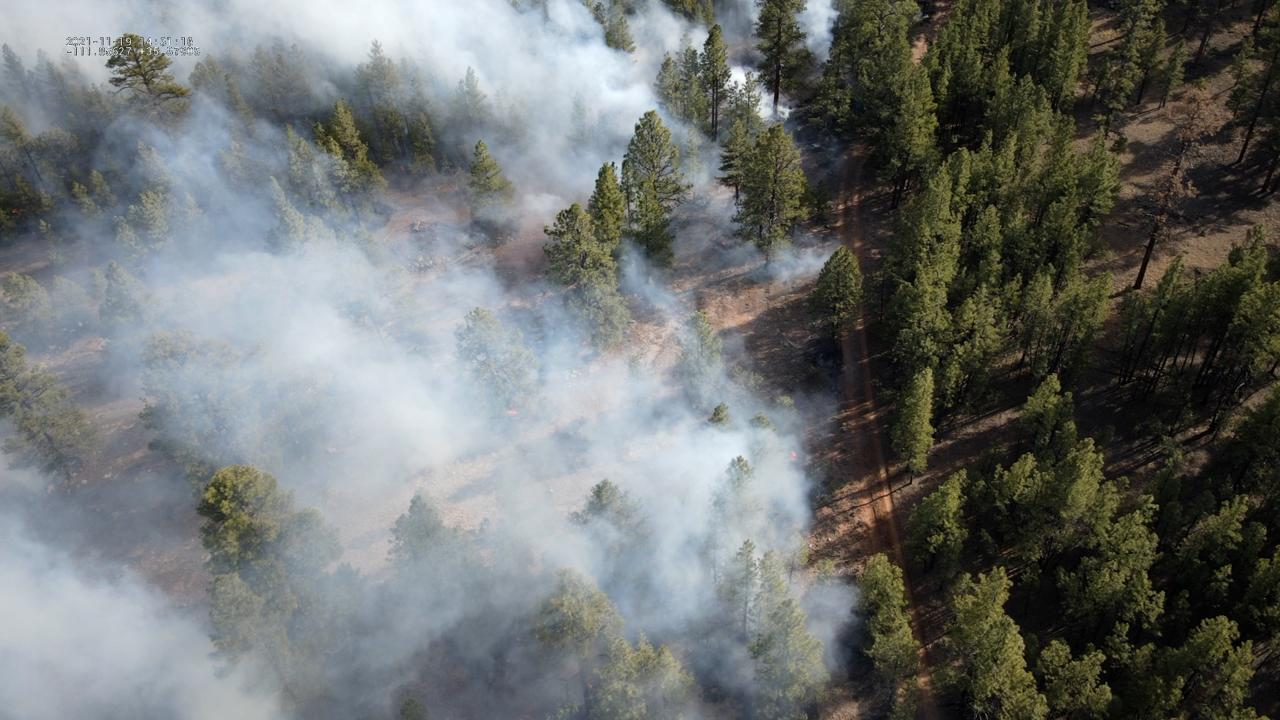fire: (790, 449, 798, 463), (10, 208, 19, 215)
smoke: (0, 0, 870, 720)
